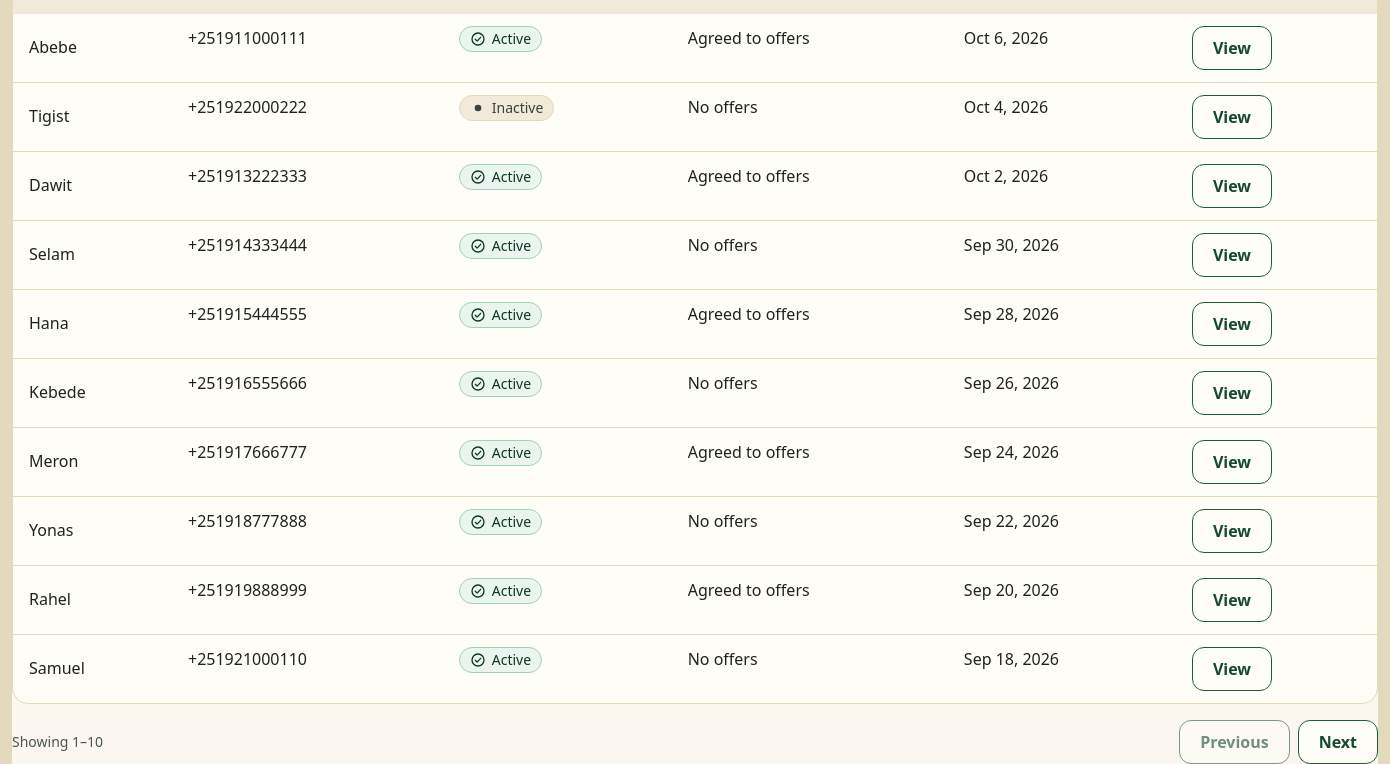
it: customers › lists 10 per page and pages forward and back without repeating anyone
(page scrolled)
Expected: the text "Showing 1–10" is shown, [12,732,103,752]
Click the button "Next": (1338, 742) [1298,720,1378,763]
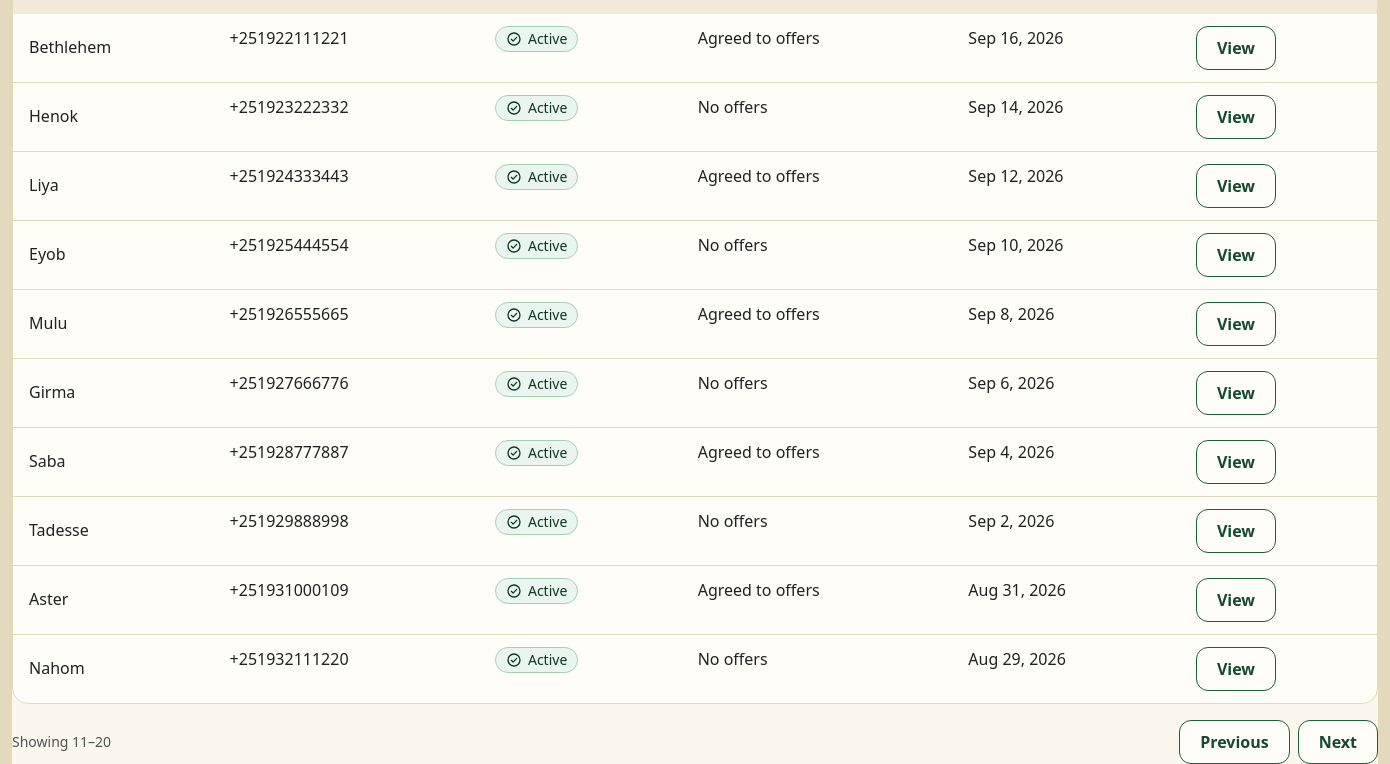
Now the text "Showing 11–20" is shown, box [12,732,111,752]
Click the button "Previous": (1234, 742) [1179,720,1290,763]
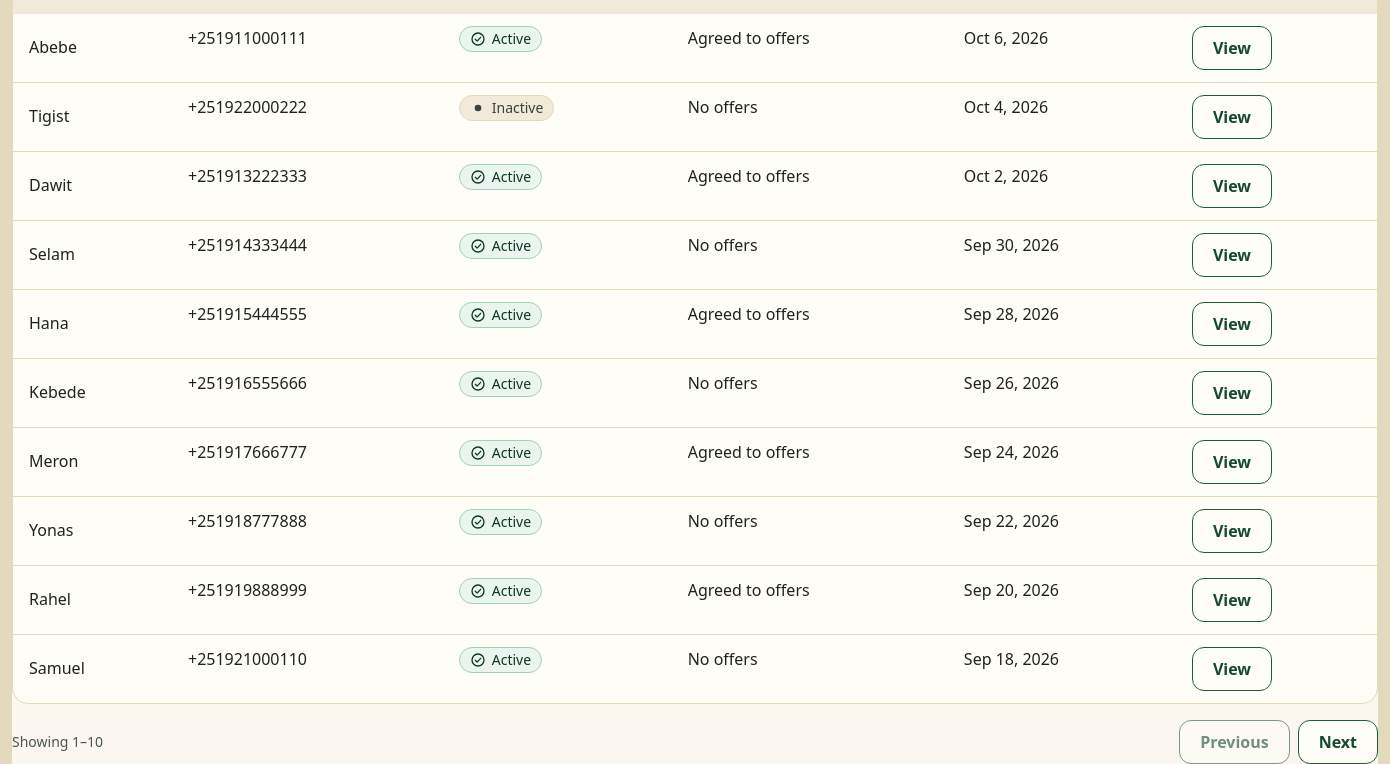
Now the text "Showing 1–10" is shown, box [12,732,103,752]
Now the button "Previous" is disabled, box [1179,720,1290,763]
